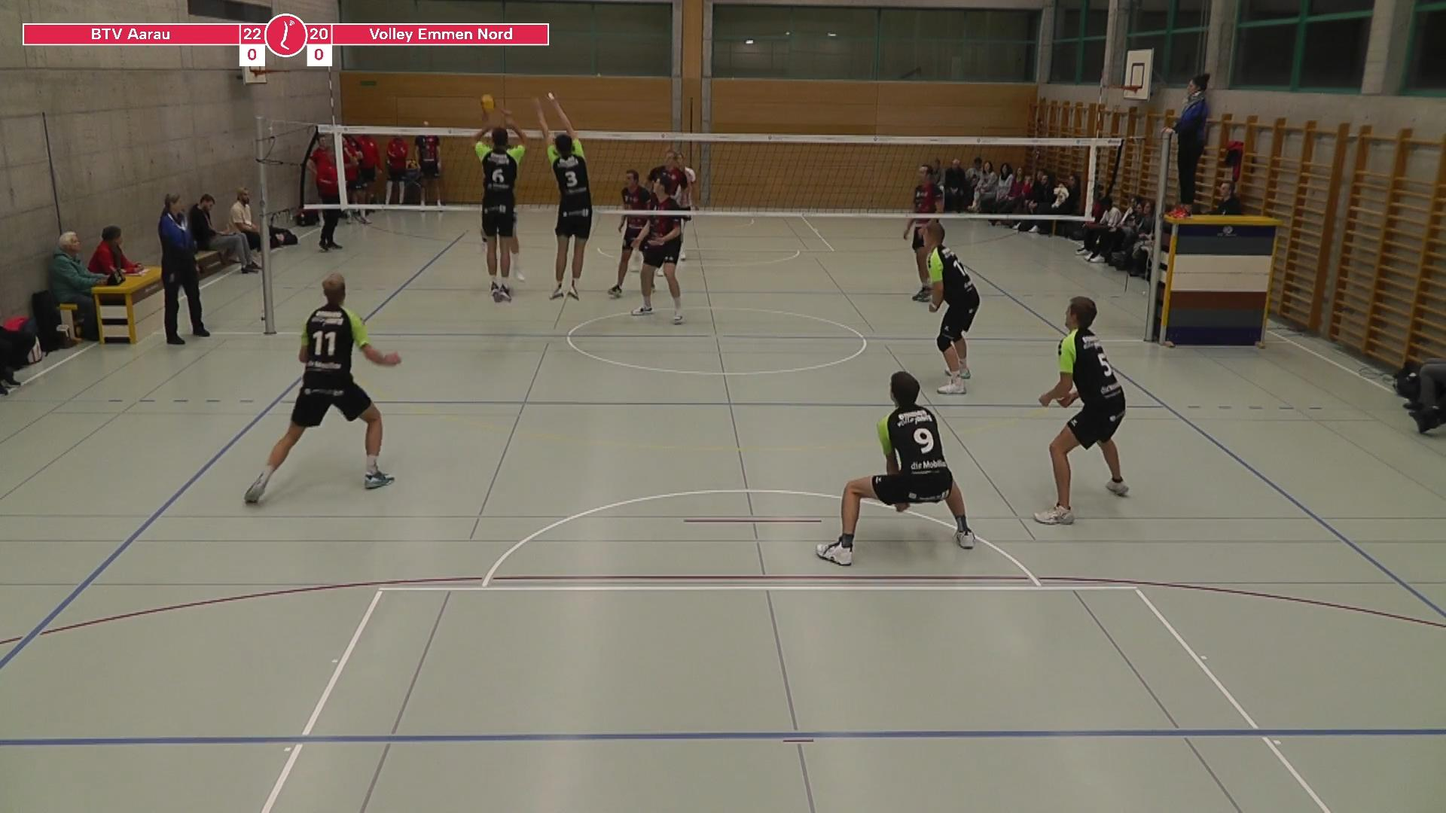muro: (521, 91, 599, 304), (471, 89, 534, 304)
